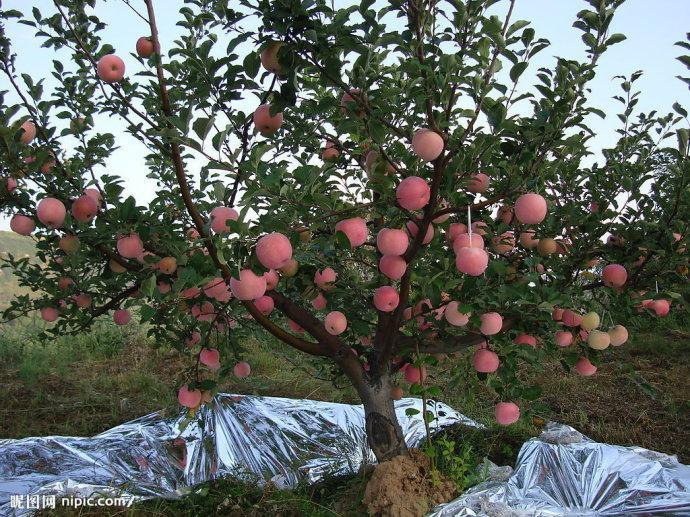apple: (257, 40, 294, 77), (395, 175, 430, 210), (257, 232, 291, 268), (232, 267, 266, 299), (34, 196, 66, 228), (335, 217, 368, 248), (70, 189, 98, 224), (456, 245, 488, 275), (516, 193, 547, 223), (412, 130, 443, 160), (253, 103, 282, 135), (208, 206, 238, 236), (377, 228, 409, 255), (96, 53, 124, 82), (117, 233, 143, 260), (473, 348, 498, 373), (601, 263, 627, 287), (379, 255, 405, 279), (478, 311, 502, 335), (375, 286, 399, 309), (325, 311, 349, 334), (496, 401, 519, 424), (10, 213, 35, 233), (588, 328, 610, 350), (314, 267, 335, 290), (607, 324, 627, 344), (200, 347, 220, 366), (179, 387, 199, 406), (135, 36, 153, 56), (320, 144, 340, 161), (582, 311, 600, 328), (555, 328, 573, 345), (576, 358, 594, 375), (563, 309, 581, 326)
